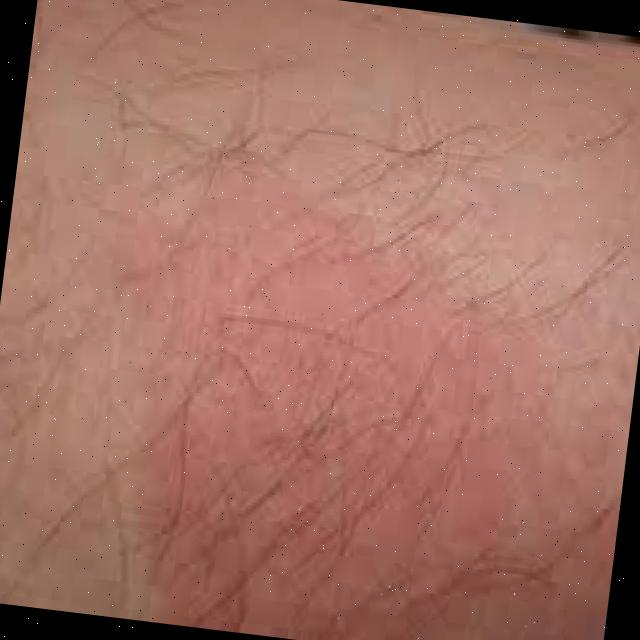kan emici bocekler: (114, 168, 640, 640)
